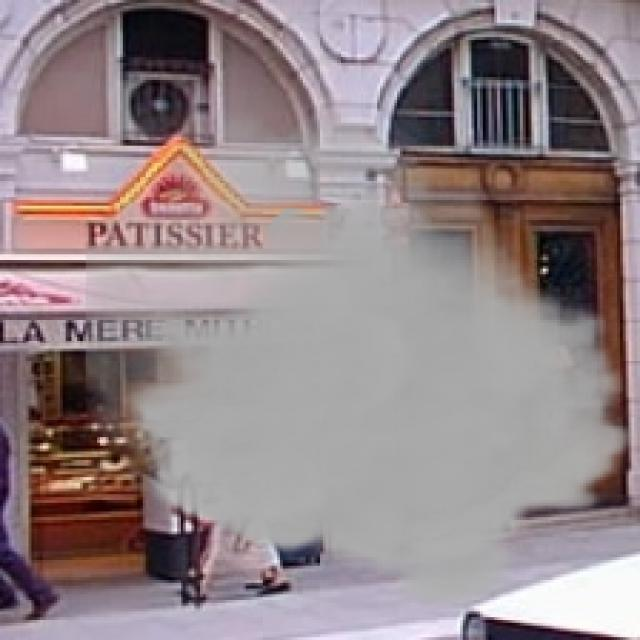smoke: (86, 91, 637, 612)
